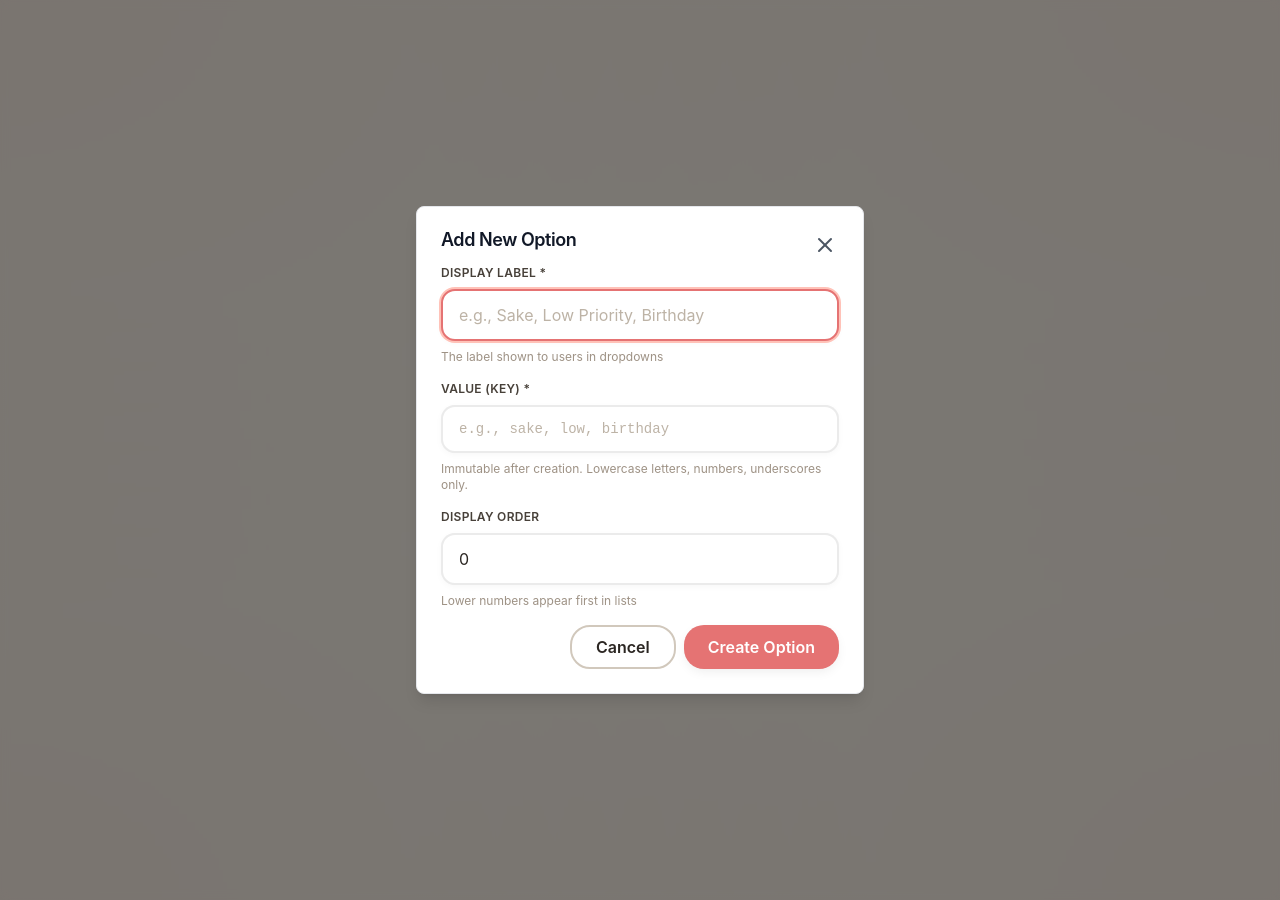
Scenario: AddOptionModal › validates value format (lowercase, numbers, underscores only)
Step 1. Type "Test" into the field labelled "Display Label *" → (640, 315), box 441,289 -> 839,341
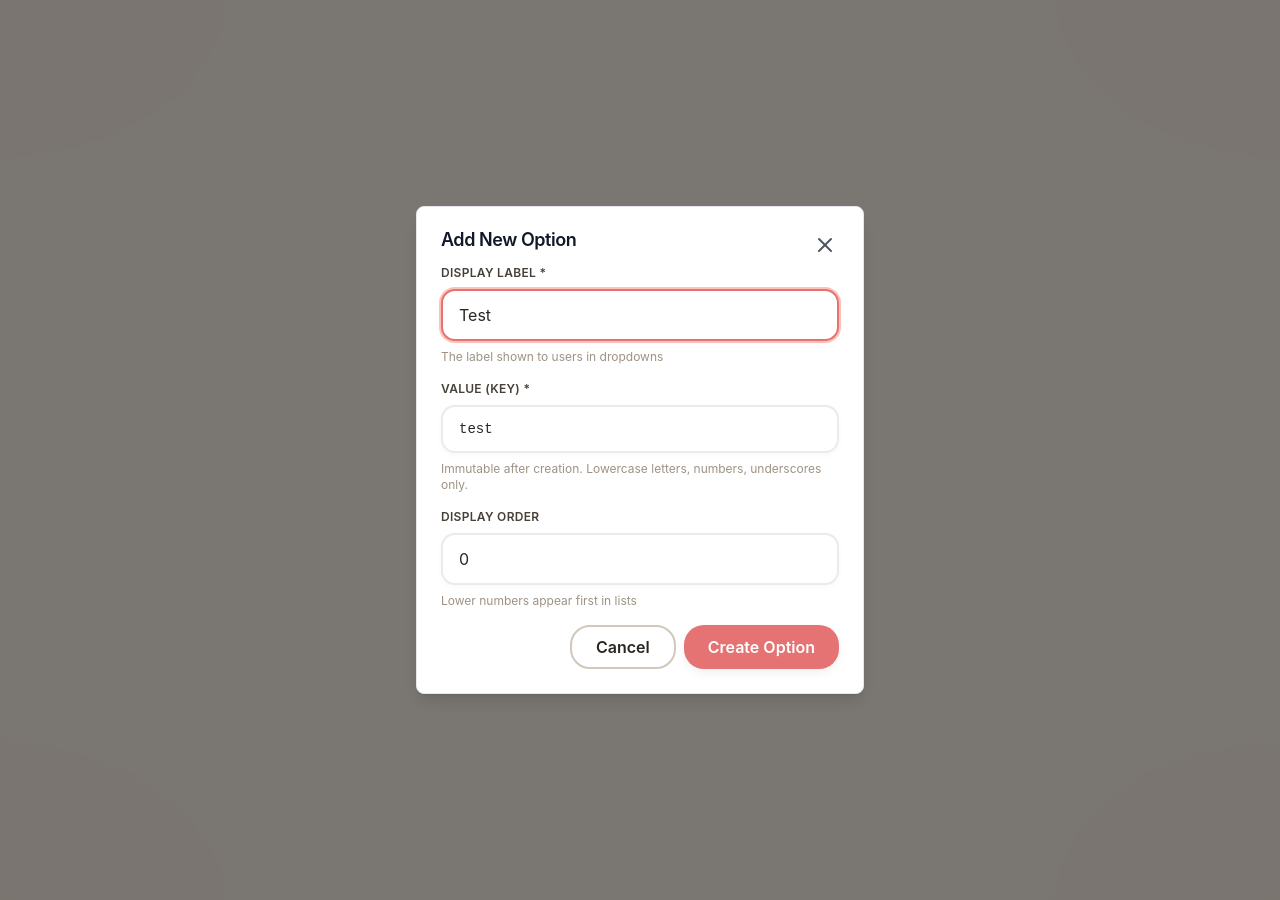
Step 2. Replace the text in the field labelled "Value (Key) *" with "invalid-value!" → (640, 429), box 441,405 -> 839,453
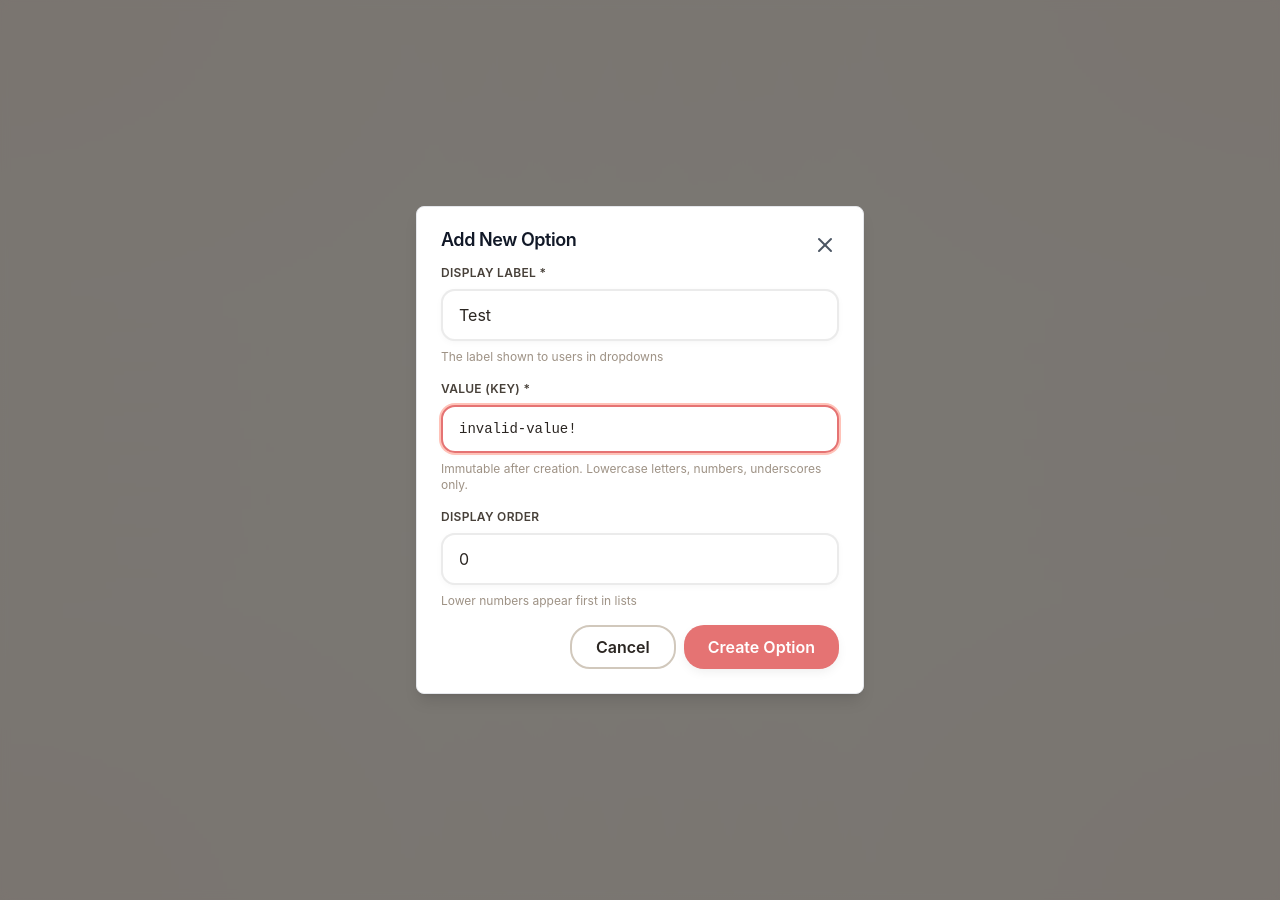
Step 3. Click the button "Create Option" → (761, 647), box 684,625 -> 839,669
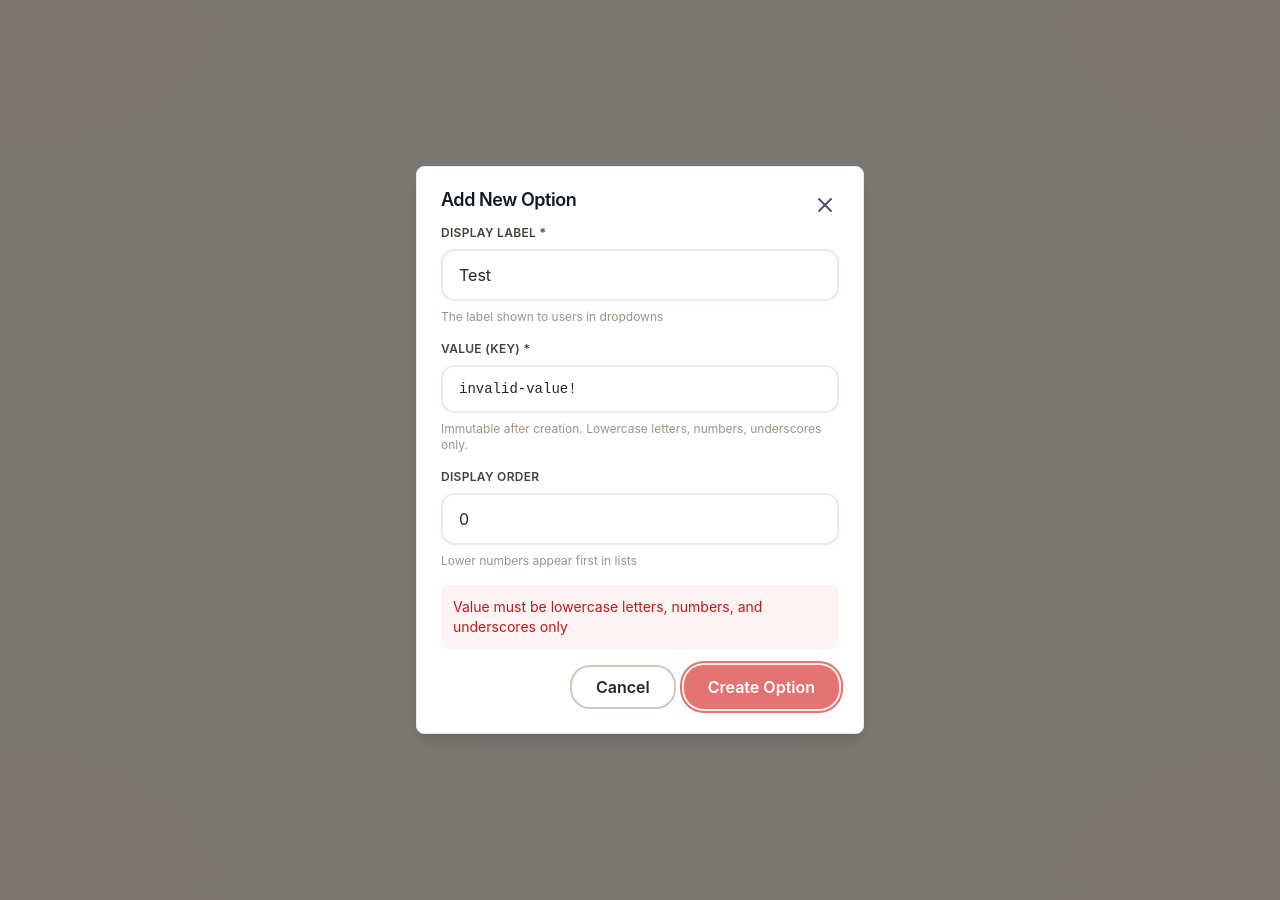
Now the text "lowercase letters, numbers, and underscores only" is shown, box 453,598 -> 762,635
